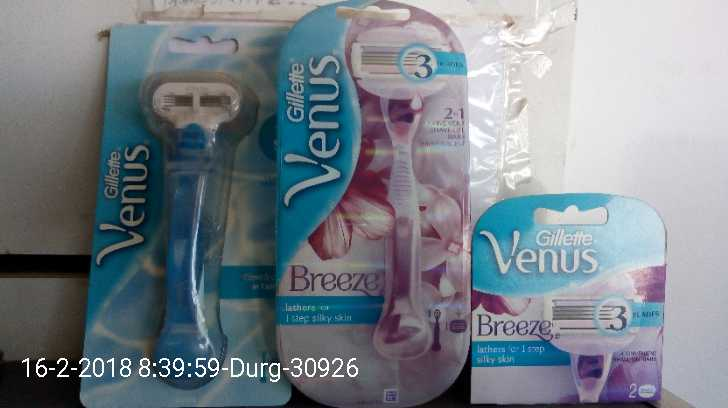venus: (279, 6, 465, 403), (113, 43, 270, 364), (470, 188, 666, 406)
